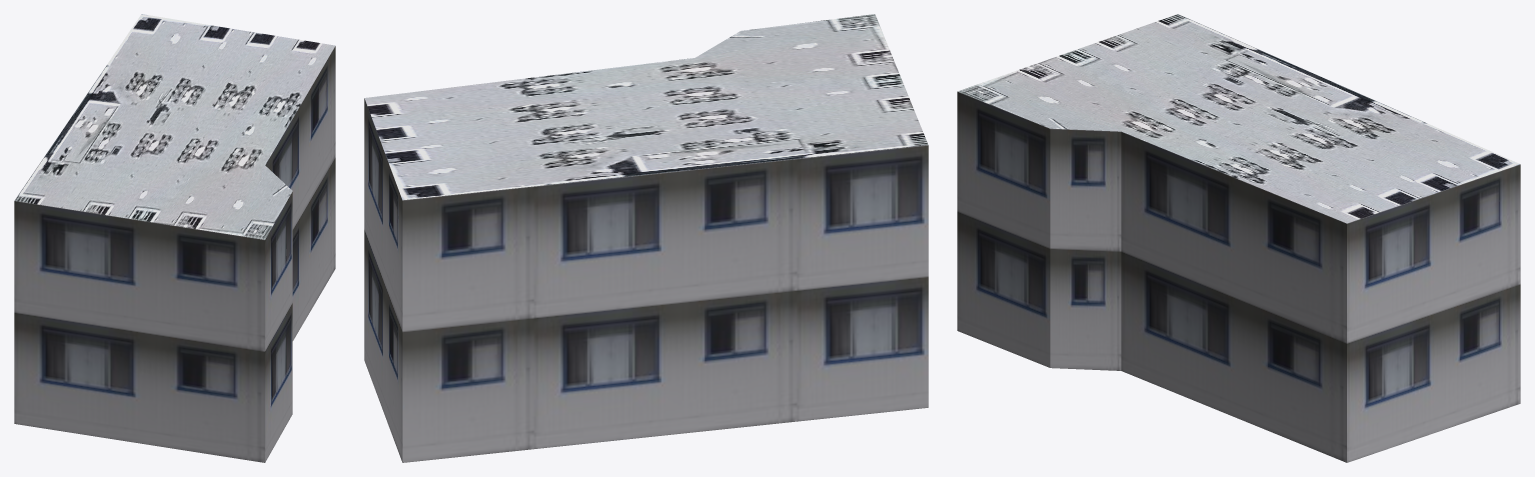
The model's file is ResTex__2502.fbx.
3 views of the same model, side by side, from view 1: azimuth 30°, elevation 25°; view 2: azimuth 150°, elevation 25°; view 3: azimuth 270°, elevation 25° (orthographic). The views are drawn at different scales.
Parts seen in each view (by area): view 1: CityEngineMaterial_9_m, CityEngineMaterial_m; view 2: CityEngineMaterial_9_m, CityEngineMaterial_m; view 3: CityEngineMaterial_9_m, CityEngineMaterial_m.
Boxes of the visible parts, bbox=[...] form: CityEngineMaterial_9_m: bbox=[14, 46, 335, 462]; CityEngineMaterial_m: bbox=[14, 14, 335, 239]; CityEngineMaterial_9_m: bbox=[364, 98, 928, 462]; CityEngineMaterial_m: bbox=[364, 14, 928, 200]; CityEngineMaterial_9_m: bbox=[957, 91, 1520, 462]; CityEngineMaterial_m: bbox=[957, 14, 1519, 223].
Bounding box in the file's own units: 11.27 × 6 × 12.79.
Materials: 2 (2 with a texture image).
